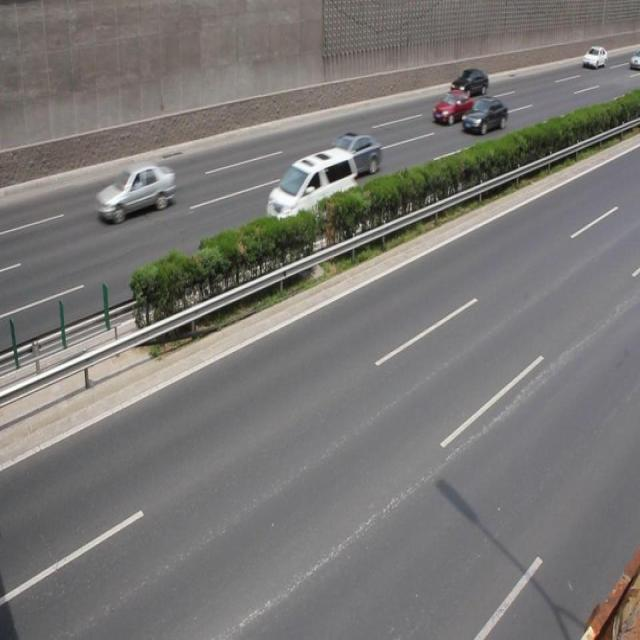car: (266, 145, 356, 244), (95, 162, 175, 224), (318, 132, 381, 182), (460, 96, 506, 135), (432, 91, 474, 126), (448, 68, 488, 99)
